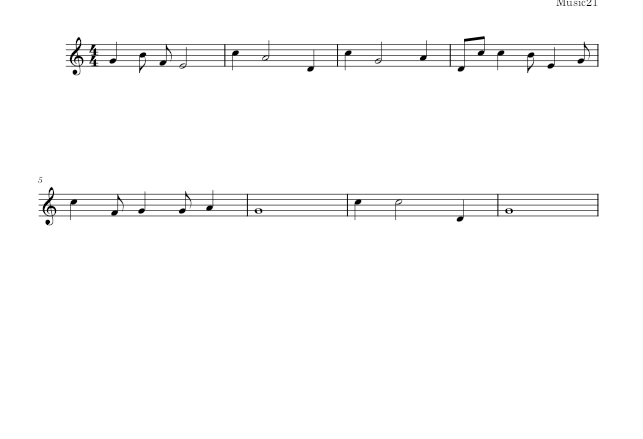Treble Clef: (65, 31, 87, 79), (38, 184, 59, 230)
